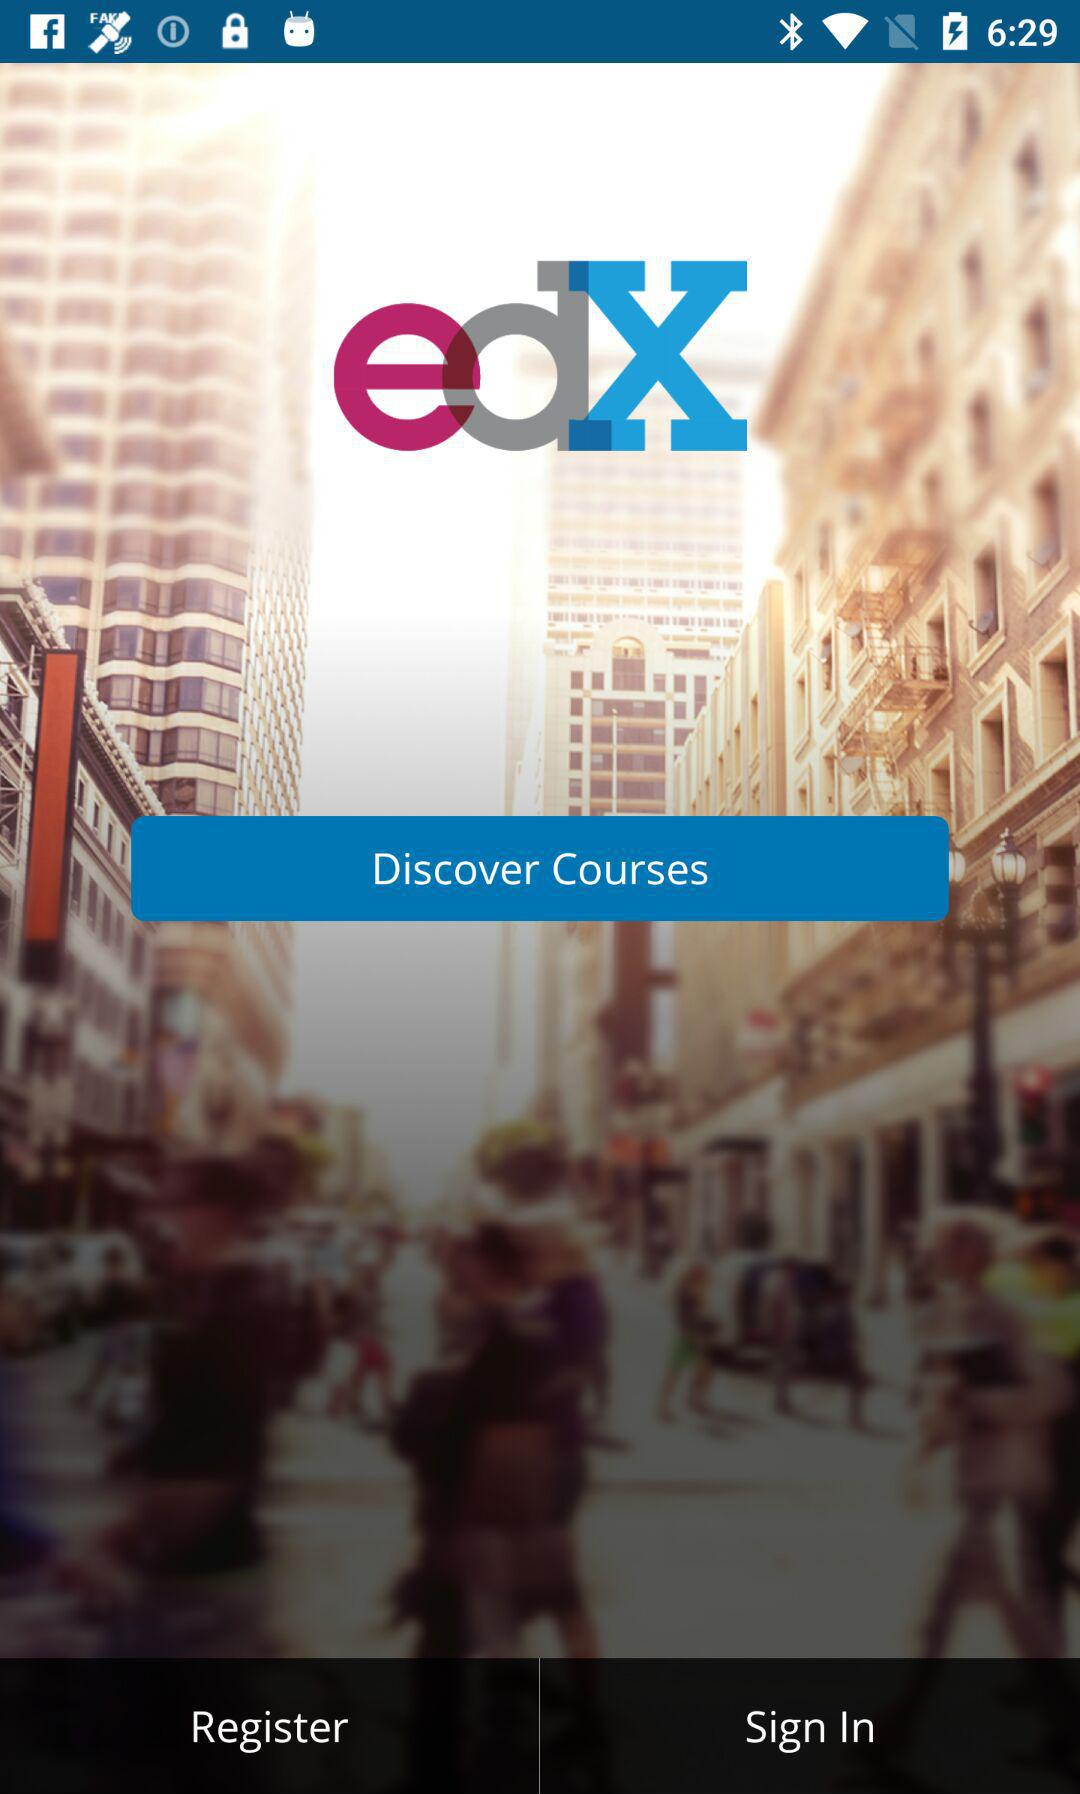BackgroundImage: (1, 64, 1080, 1658)
Image: (334, 260, 749, 454)
TextButton: (131, 816, 949, 923), (541, 1658, 1080, 1794), (1, 1658, 541, 1794)
UpperTaskBar: (1, 1, 1080, 64)
